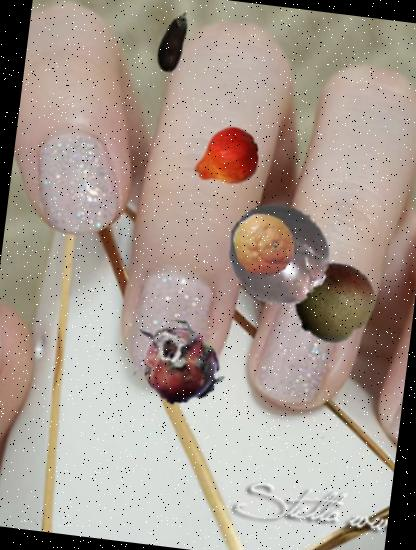Eggplant: (136, 7, 207, 78)
Mandarine: (228, 210, 300, 282)
Passion: (220, 195, 337, 312)
Pear: (268, 237, 383, 352), (182, 117, 264, 199)
Pitahaya: (121, 306, 234, 419)
